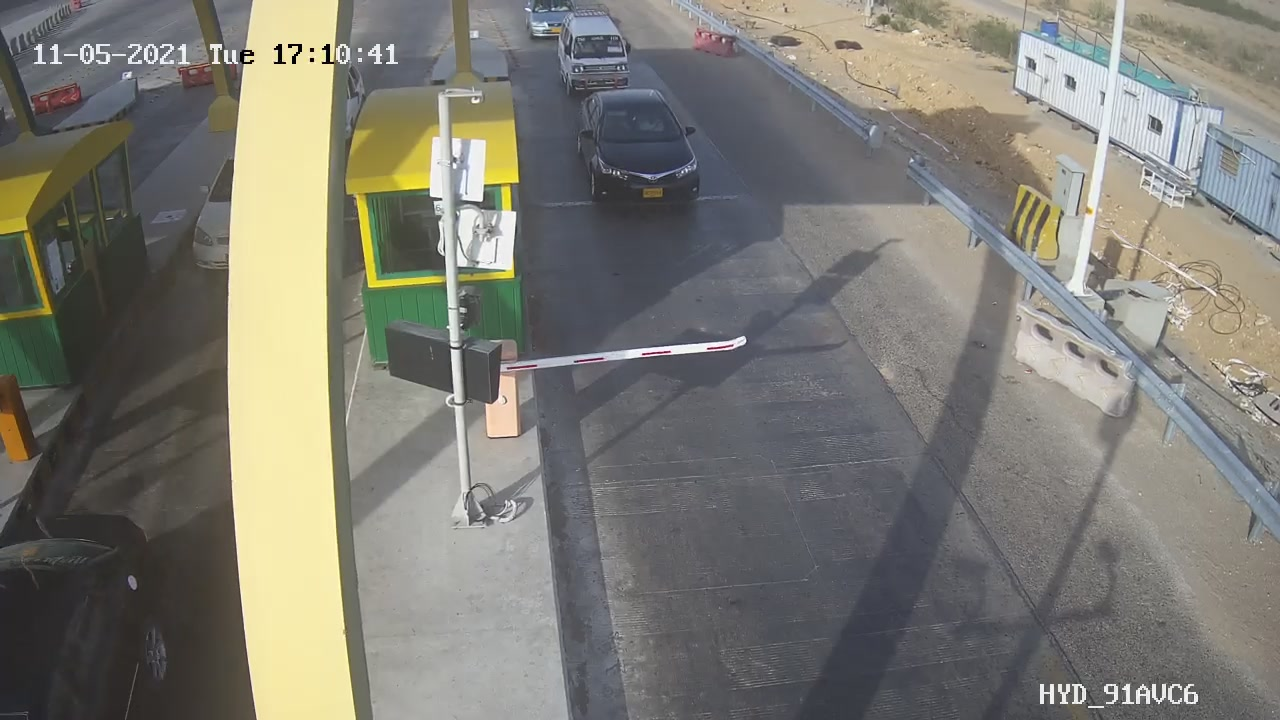F1: (557, 79, 722, 229)
